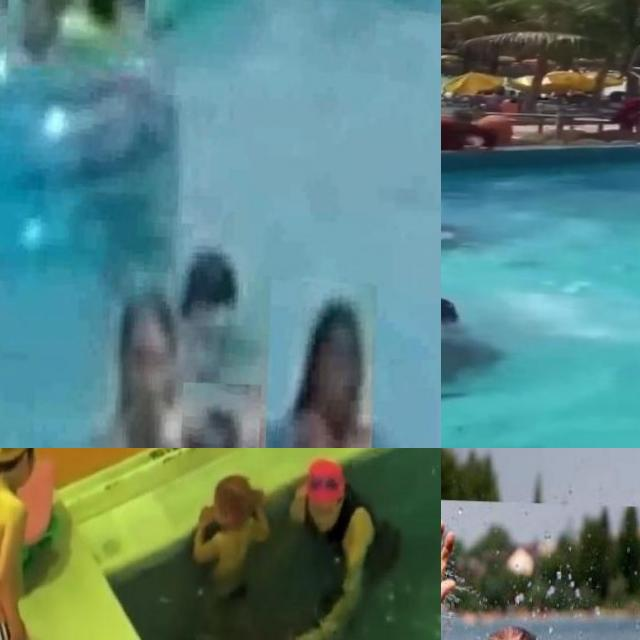drowning: (441, 496, 640, 640), (177, 246, 255, 367), (441, 287, 530, 390)
out of water: (0, 448, 65, 640)
swimming: (278, 449, 403, 640), (264, 281, 379, 448), (99, 283, 176, 448), (183, 466, 274, 604), (6, 0, 149, 70), (179, 381, 261, 448), (441, 184, 479, 263)
